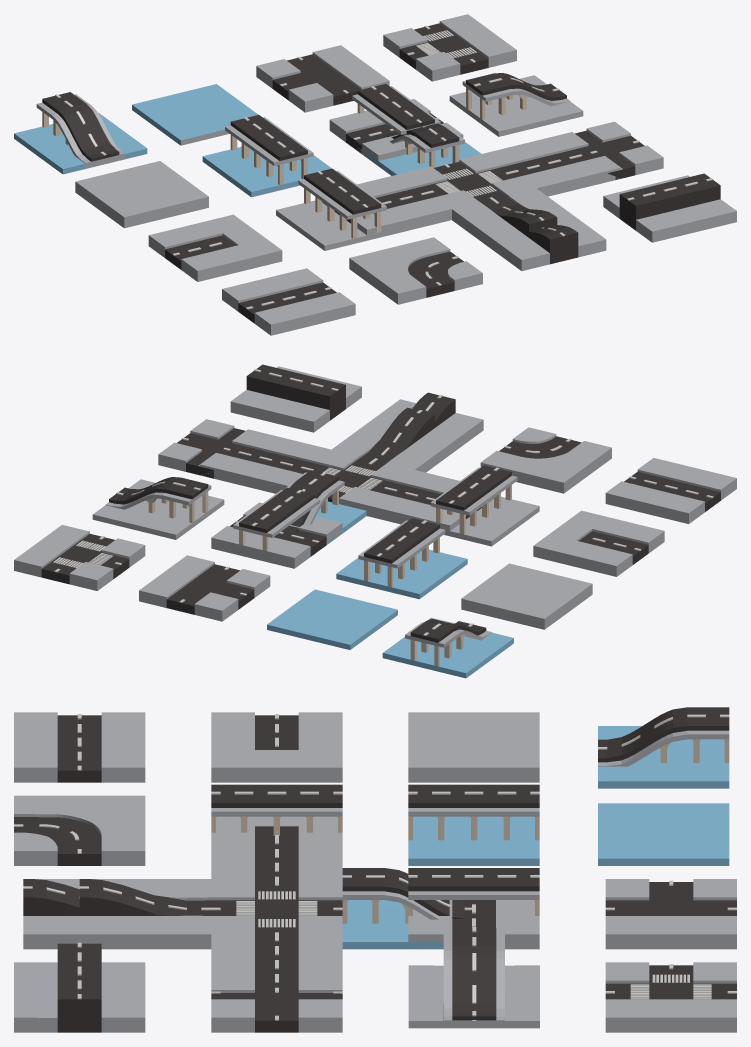
File: Streets_all.glb
The picture shows the model from 3 angles, top to bottom: view 1: azimuth 30°, elevation 25°; view 2: azimuth 150°, elevation 25°; view 3: azimuth 270°, elevation 25°; orthographic projection. The views are drawn at different scales.
Visible parts, largest first — view 1: Streets_all.obj; view 2: Streets_all.obj; view 3: Streets_all.obj.
Boxes of the visible parts, x1,y1,x2,y2 form: Streets_all.obj: (14, 14, 736, 335); Streets_all.obj: (14, 364, 736, 678); Streets_all.obj: (14, 707, 736, 1032).
Bounding box in the file's own units: 11 × 0.768 × 11.
